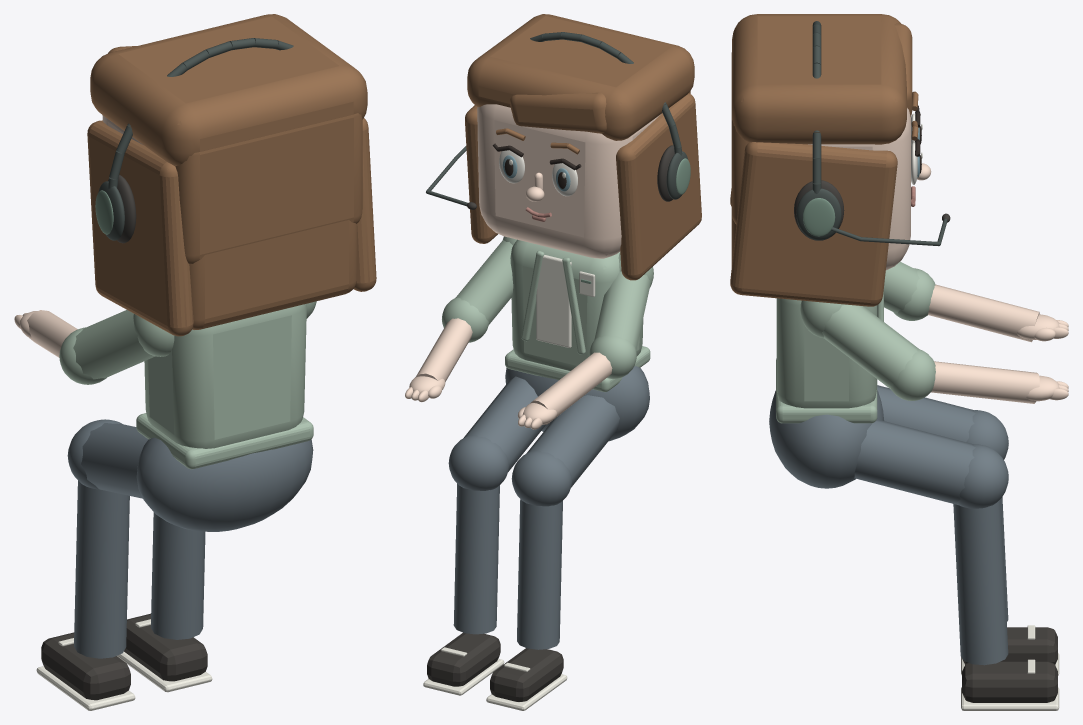
File: person-seated-2.glb
3 renders of one model, left to right at view 1: azimuth 30°, elevation 25°; view 2: azimuth 150°, elevation 25°; view 3: azimuth 270°, elevation 25°, orthographic. The views are drawn at different scales.
Parts seen in each view (by area): view 1: Head.004, person-seated-2 Trousers, person-seated-2 Shirt, person-seated-2 Shoes, person-seated-2 Warm porcelain, ForearmL.004; view 2: Head.004, person-seated-2 Trousers, person-seated-2 Shirt, person-seated-2 Shoes, person-seated-2 Warm porcelain, ForearmL.004, ForearmR.004; view 3: Head.004, person-seated-2 Trousers, person-seated-2 Shirt, person-seated-2 Shoes, ForearmL.004, ForearmR.004, person-seated-2 Warm porcelain.
Part boxes in pixels (x1,y1,x2,y2): Head.004: (87,14,376,336); person-seated-2 Trousers: (67,419,313,658); person-seated-2 Shirt: (59,301,316,469); person-seated-2 Shoes: (41,613,207,700); person-seated-2 Warm porcelain: (36,619,212,710); ForearmL.004: (14,310,77,357); Head.004: (426,14,701,280); person-seated-2 Trousers: (448,366,649,649); person-seated-2 Shirt: (442,236,653,392); person-seated-2 Shoes: (427,632,563,701); person-seated-2 Warm porcelain: (423,255,595,710); ForearmL.004: (517,352,612,429); ForearmR.004: (405,318,472,402); Head.004: (730,14,950,306); person-seated-2 Trousers: (769,385,1008,665); person-seated-2 Shirt: (776,261,935,423); person-seated-2 Shoes: (962,627,1057,702); ForearmL.004: (928,284,1068,342); ForearmR.004: (931,361,1068,403); person-seated-2 Warm porcelain: (961,625,1059,710).
Size of the model in its own units: 0.636 by 1.69 by 0.7938.
